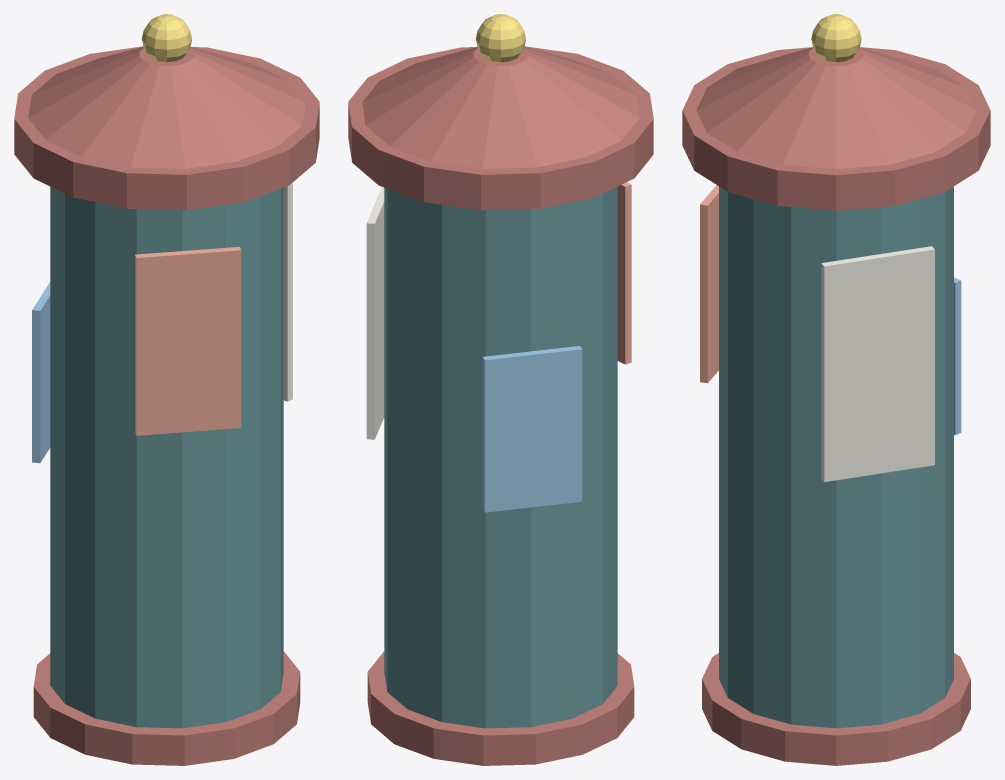
Rendered from th3_litfass.glb.
3 renders of one model, left to right at view 1: azimuth 30°, elevation 25°; view 2: azimuth 150°, elevation 25°; view 3: azimuth 270°, elevation 25°, orthographic.
Parts seen in each view (by area): view 1: litfass; view 2: litfass; view 3: litfass.
Part boxes in pixels (left/top/right/bottom): litfass: left=14, top=14, right=319, bottom=765; litfass: left=348, top=14, right=653, bottom=765; litfass: left=682, top=14, right=990, bottom=765.
Size of the model in its own units: 1.1 by 2.73 by 1.1.
